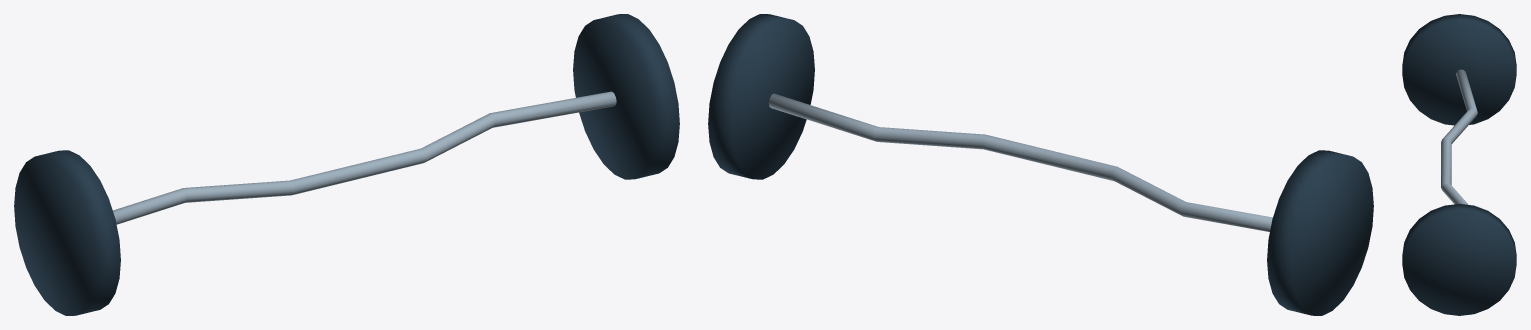
File: ez_bar_a_ez_bar_curl.glb
3 renders of one model, left to right at view 1: azimuth 30°, elevation 25°; view 2: azimuth 150°, elevation 25°; view 3: azimuth 270°, elevation 25°, orthographic. The views are drawn at different scales.
Parts seen in each view (by area): view 1: plates, bent_shaft; view 2: plates, bent_shaft; view 3: plates, bent_shaft.
Part boxes in pixels (x1=…): plates: x1=14, y1=14, x2=679, y2=315; bent_shaft: x1=113, y1=91, x2=616, y2=224; plates: x1=708, y1=14, x2=1373, y2=315; bent_shaft: x1=768, y1=93, x2=1272, y2=231; plates: x1=1402, y1=14, x2=1516, y2=315; bent_shaft: x1=1441, y1=69, x2=1477, y2=204.
Size of the model in its own units: 1.07 by 0.26 by 0.26.
